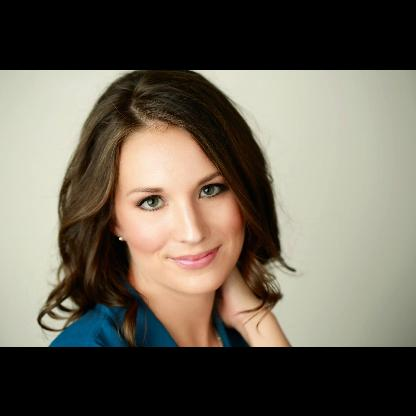Female: (112, 122, 246, 294)
